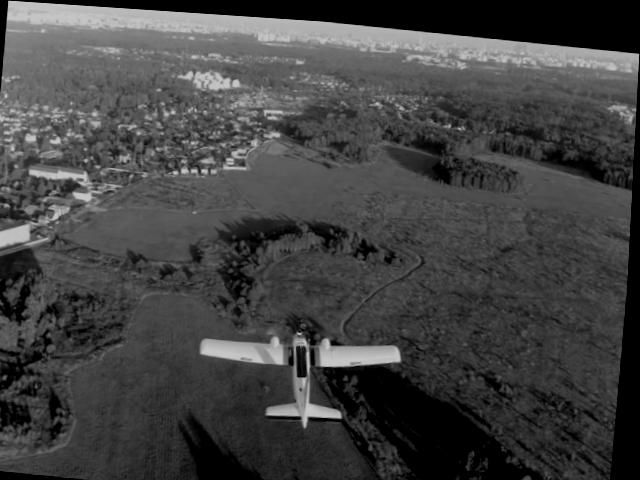hedef: (181, 313, 423, 438)
